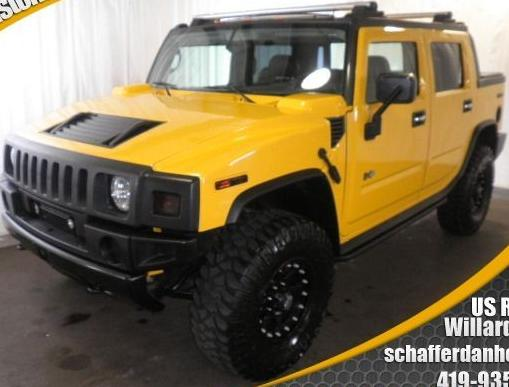front_view: (1, 136, 235, 334)
headlight: (97, 163, 192, 285)
side_glass: (359, 29, 468, 103)
